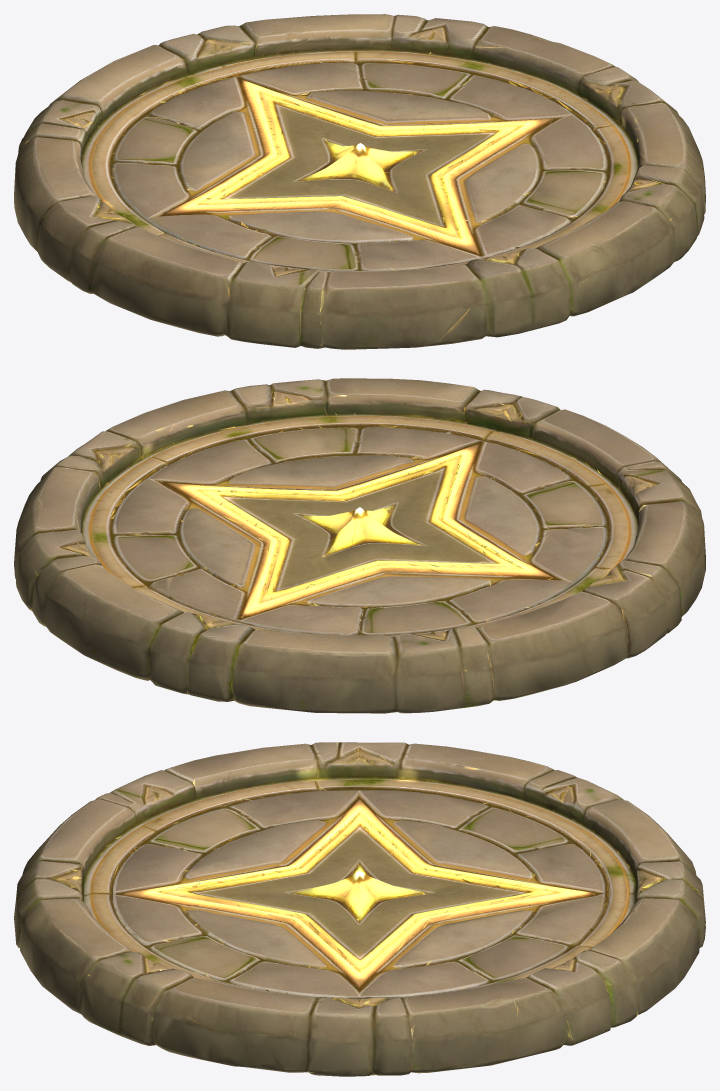
File: star_platform.glb
The picture shows the model from 3 angles, top to bottom: view 1: azimuth 30°, elevation 25°; view 2: azimuth 150°, elevation 25°; view 3: azimuth 270°, elevation 25°; orthographic projection.
Parts seen in each view (by area): view 1: Mesh1.0; view 2: Mesh1.0; view 3: Mesh1.0.
Part boxes in pixels (left/top/right/bottom): Mesh1.0: left=14, top=14, right=705, bottom=349; Mesh1.0: left=14, top=378, right=705, bottom=713; Mesh1.0: left=14, top=742, right=705, bottom=1076.
Bounding box in the file's own units: 1.9 × 0.1941 × 1.9.
1 material, 1 textured.
